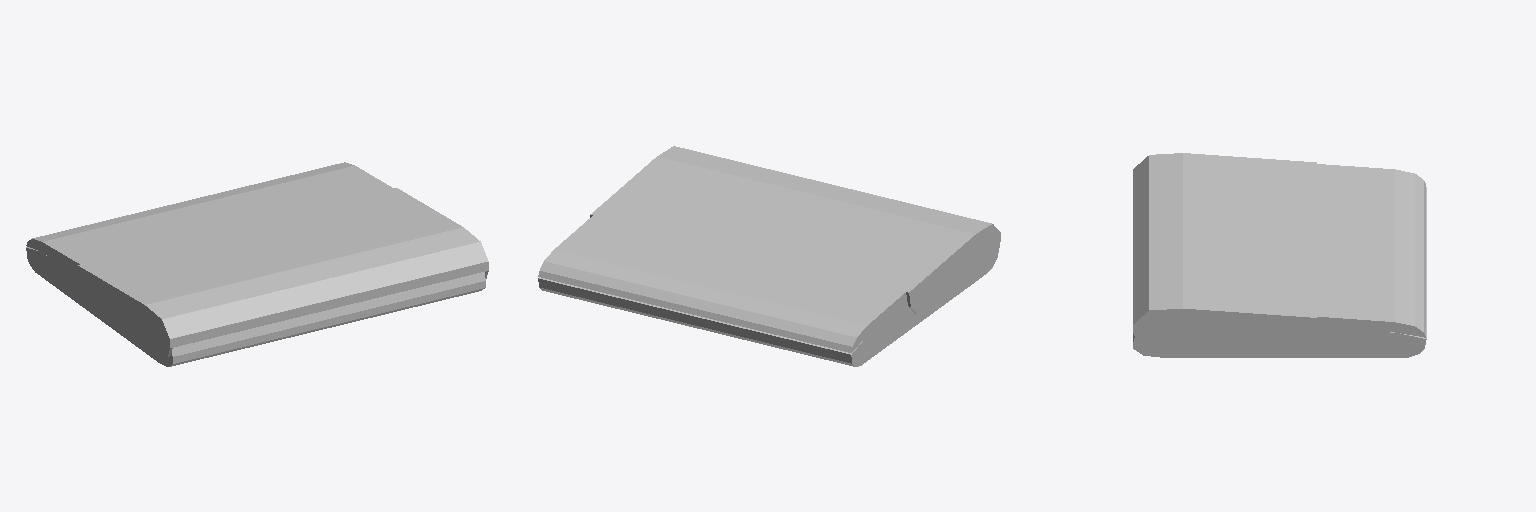
3 renders of one model, left to right at view 1: azimuth 30°, elevation 25°; view 2: azimuth 150°, elevation 25°; view 3: azimuth 270°, elevation 25°, orthographic.
Visible parts, largest first — view 1: rdmobj01, rdmobj00; view 2: rdmobj01, rdmobj00; view 3: rdmobj01, rdmobj00.
Boxes of the visible parts, x1,y1,x2,y2 form: rdmobj01: [26, 162, 488, 358]; rdmobj00: [26, 247, 485, 366]; rdmobj01: [538, 146, 1000, 352]; rdmobj00: [538, 255, 997, 366]; rdmobj01: [1133, 153, 1425, 349]; rdmobj00: [1133, 187, 1426, 357].
Size of the model in its own units: 60.09 by 9.08 by 47.83.